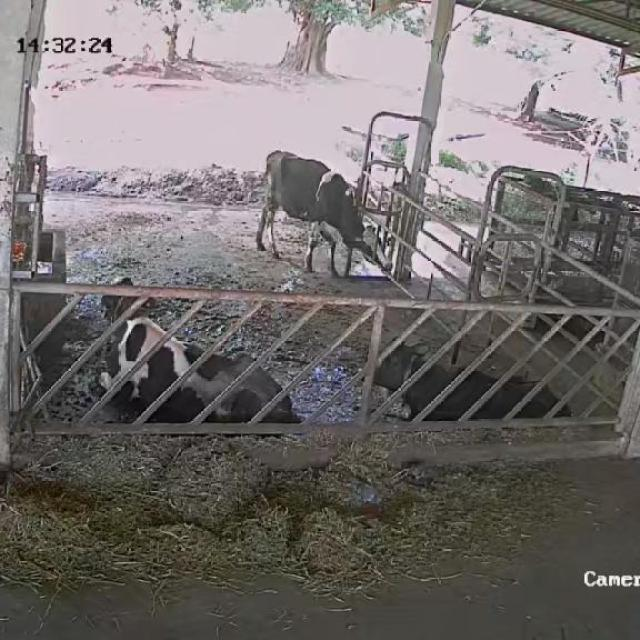lying down: (98, 273, 310, 437), (356, 330, 574, 426)
standing: (254, 144, 397, 292)
